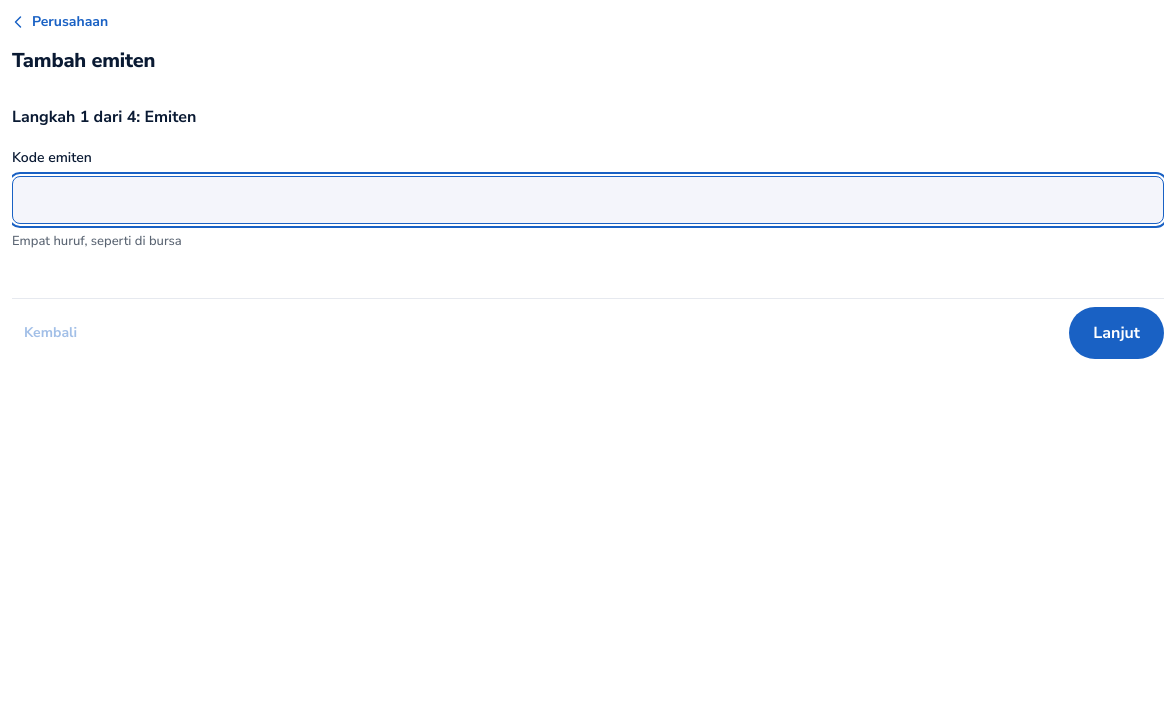
Test: Tambah emiten: wizard langkah (design.md §3.4, A6.2), kasus langkah dari AddScreen.test.tsx › step 1: ticker › when the server refuses the removal (409) its message shows
The width and height of the screenshot is (1176, 720).
Type "MANU" into the field labelled "Kode emiten" at (588, 200), box [12, 176, 1164, 224]
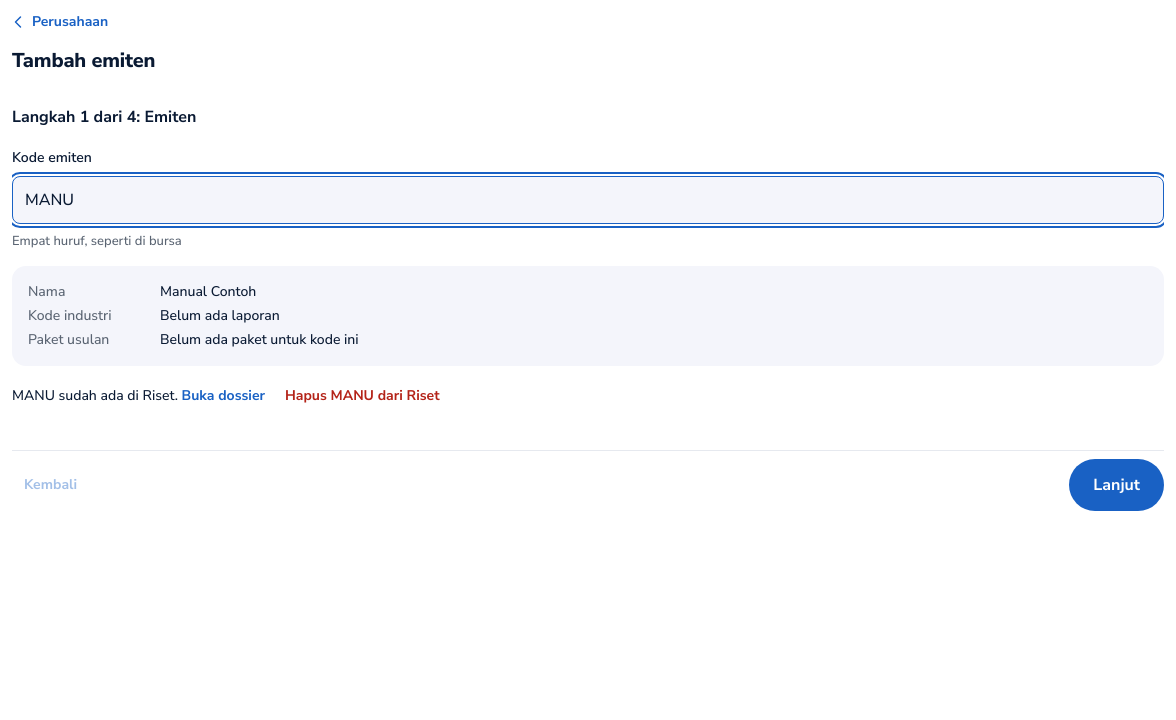
Click the button "Hapus MANU dari Riset" at (362, 396), box [273, 374, 452, 418]
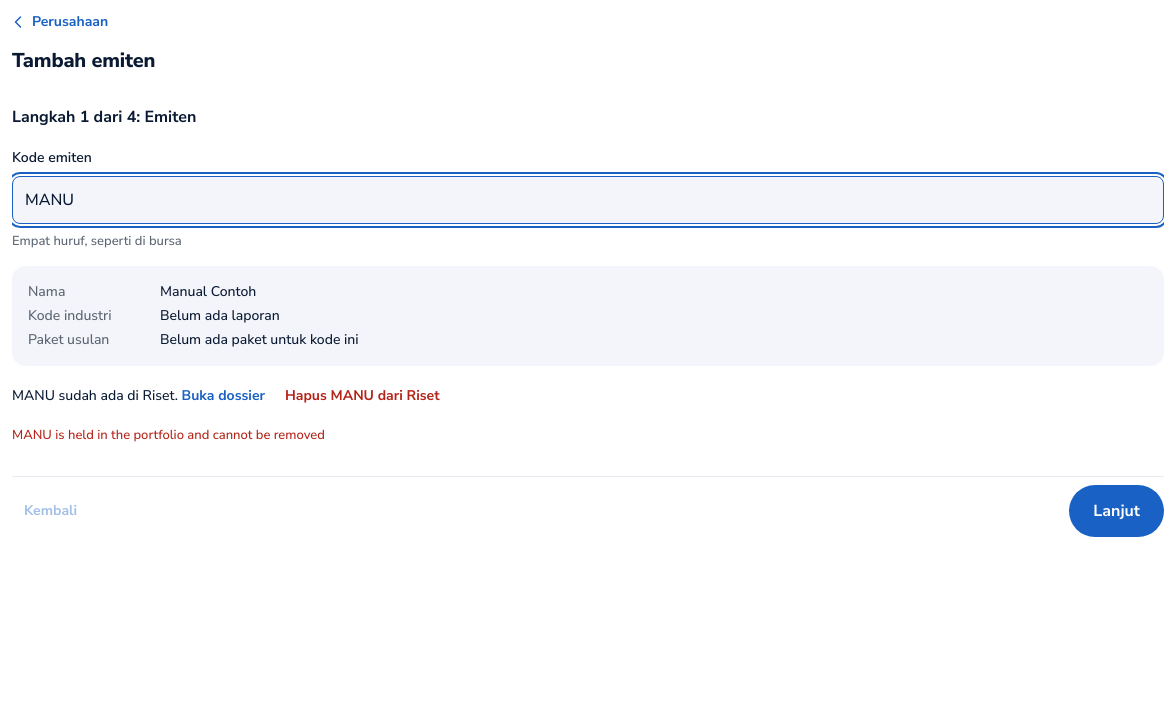
Expected: the message shows "cannot be removed", [12, 426, 325, 444]
